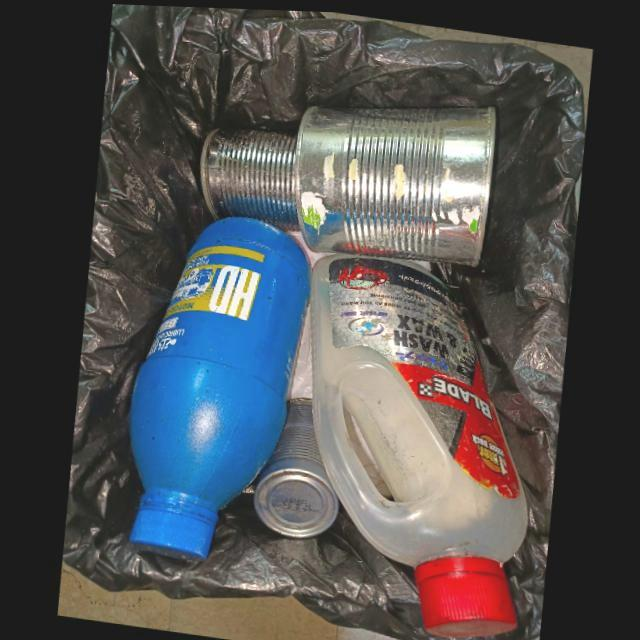aluminum: (292, 103, 496, 263), (249, 393, 338, 539), (199, 125, 299, 230)
plastic_bottle: (308, 252, 526, 638), (126, 216, 308, 563)
